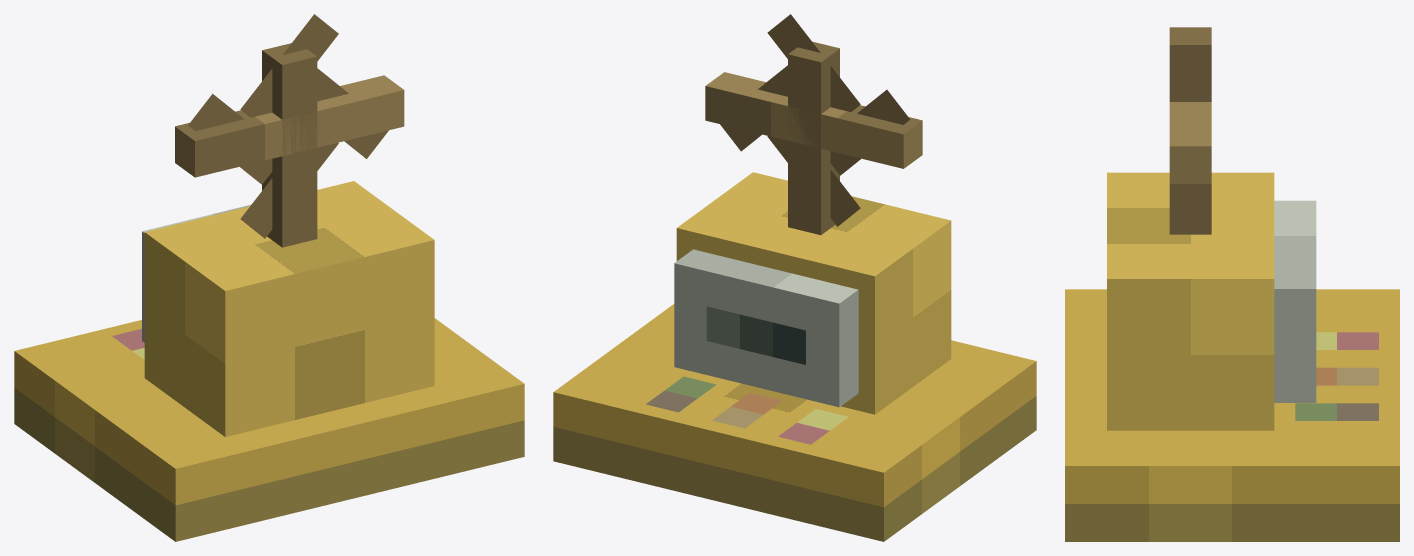
File: analog_computer.glb
3 renders of one model, left to right at view 1: azimuth 30°, elevation 25°; view 2: azimuth 150°, elevation 25°; view 3: azimuth 270°, elevation 25°, orthographic. The views are drawn at different scales.
Visible parts, largest first — view 1: gold_terminal, gold_keyboard_base, dark_computer_base, cross_horizontal, antenna_column, diamond_side_1, diamond_side_2, diamond_side_3, diamond_side_0; view 2: gold_keyboard_base, gold_terminal, silver_screen_frame, dark_computer_base, cross_horizontal, antenna_column, screen_black, diamond_side_1, diamond_side_2, diamond_side_3, diamond_side_0, button_0 (+5 smaller); view 3: gold_terminal, gold_keyboard_base, dark_computer_base, silver_screen_frame, antenna_column, cross_horizontal, button_1, button_0, button_2, button_5.
Part boxes in pixels (x1,y1,x2,y2): gold_terminal: [144, 181, 434, 436]; gold_keyboard_base: [14, 318, 524, 505]; dark_computer_base: [14, 387, 524, 541]; cross_horizontal: [175, 75, 404, 177]; antenna_column: [262, 43, 317, 247]; diamond_side_1: [240, 14, 338, 117]; diamond_side_2: [188, 93, 272, 184]; diamond_side_3: [240, 143, 338, 238]; diamond_side_0: [317, 68, 388, 158]; gold_keyboard_base: [553, 304, 1036, 507]; gold_terminal: [676, 172, 951, 414]; silver_screen_frame: [674, 249, 858, 407]; dark_computer_base: [553, 396, 1036, 541]; cross_horizontal: [705, 72, 922, 168]; antenna_column: [788, 41, 839, 235]; screen_black: [706, 306, 805, 364]; diamond_side_1: [767, 14, 860, 111]; diamond_side_2: [830, 89, 909, 175]; diamond_side_3: [767, 136, 860, 226]; diamond_side_0: [720, 65, 787, 151]; button_0: [778, 423, 829, 444]; gold_terminal: [1107, 172, 1274, 430]; gold_keyboard_base: [1065, 289, 1399, 503]; dark_computer_base: [1065, 504, 1399, 541]; silver_screen_frame: [1274, 200, 1316, 402]; antenna_column: [1169, 27, 1211, 234]; cross_horizontal: [1169, 102, 1211, 183]; button_1: [1337, 367, 1378, 385]; button_0: [1337, 332, 1378, 349]; button_2: [1337, 403, 1378, 420]; button_5: [1295, 403, 1336, 420].
Size of the model in its own units: 10 by 11.91 by 8.
Materials: 1 (1 with a texture image).
